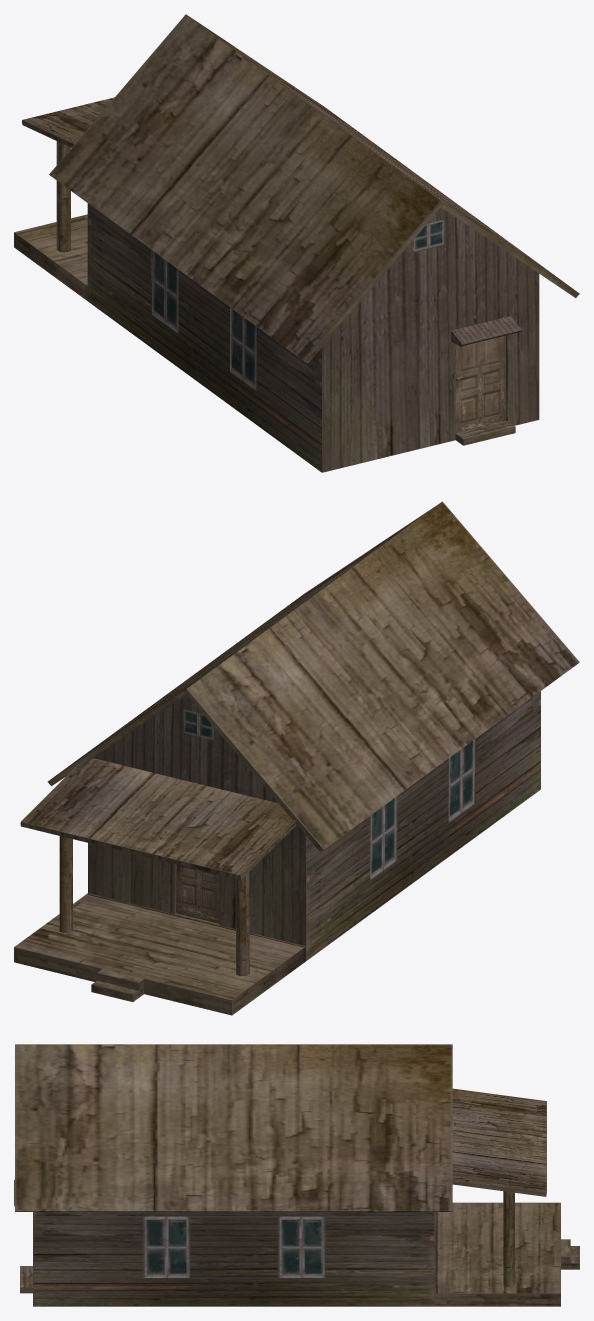
Rendered from FarmHouse.obj.
3 renders of one model, top to bottom at view 1: azimuth 30°, elevation 25°; view 2: azimuth 150°, elevation 25°; view 3: azimuth 270°, elevation 25°, orthographic. The views are drawn at different scales.
Visible parts, largest first — view 1: polySurface73.006, polySurface73.009, polySurface73.005, polySurface73.011, polySurface73.001, polySurface73.004, polySurface73.002, polySurface73.013; view 2: polySurface73.005, polySurface73.006, polySurface73.011, polySurface73.001, polySurface73.004, polySurface73.009, polySurface73.002, polySurface73.003, polySurface73.013; view 3: polySurface73.006, polySurface73.005, polySurface73.009, polySurface73.011, polySurface73.001, polySurface73.004, polySurface73, polySurface73.003, polySurface73.007.
Part boxes in pixels (box(x1,y1,x2,y2)): polySurface73.006: box(173, 97, 579, 366); polySurface73.009: box(214, 273, 539, 472); polySurface73.005: box(49, 14, 448, 265); polySurface73.011: box(87, 203, 214, 393); polySurface73.001: box(14, 214, 87, 300); polySurface73.004: box(22, 97, 114, 147); polySurface73.002: box(56, 141, 70, 252); polySurface73.013: box(89, 302, 229, 371); polySurface73.005: box(47, 606, 448, 855); polySurface73.006: box(179, 501, 579, 758); polySurface73.011: box(88, 770, 432, 960); polySurface73.001: box(14, 893, 305, 1015); polySurface73.004: box(20, 758, 296, 879); polySurface73.009: box(432, 691, 540, 867); polySurface73.002: box(236, 872, 249, 976); polySurface73.003: box(59, 836, 72, 932); polySurface73.013: box(308, 823, 448, 958); polySurface73.006: box(15, 1044, 258, 1211); polySurface73.005: box(232, 1044, 452, 1211); polySurface73.009: box(14, 1179, 279, 1306); polySurface73.011: box(190, 1212, 434, 1306); polySurface73.001: box(434, 1202, 579, 1306); polySurface73.004: box(452, 1088, 546, 1196); polySurface73: box(34, 1277, 433, 1306); polySurface73.003: box(503, 1191, 514, 1286); polySurface73.007: box(325, 1212, 434, 1216).
Size of the model in its own units: 24.28 by 21.28 by 50.36.
1 material, 1 textured.
